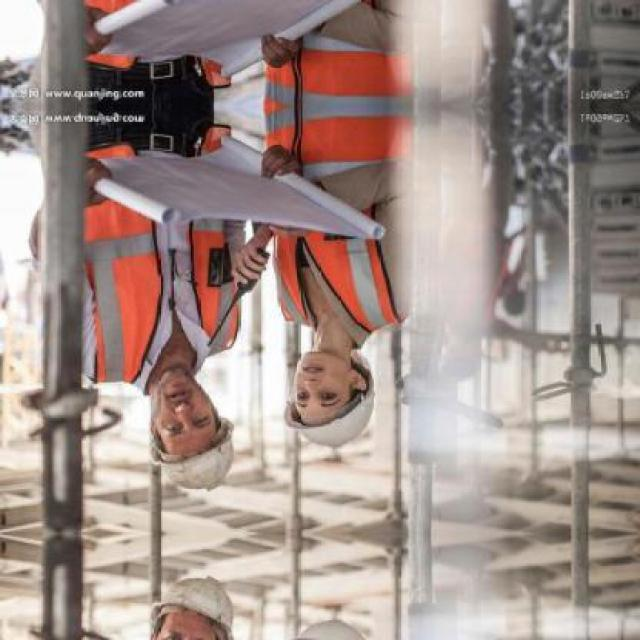safetyhelmet: (146, 392, 237, 498), (280, 360, 379, 451)
